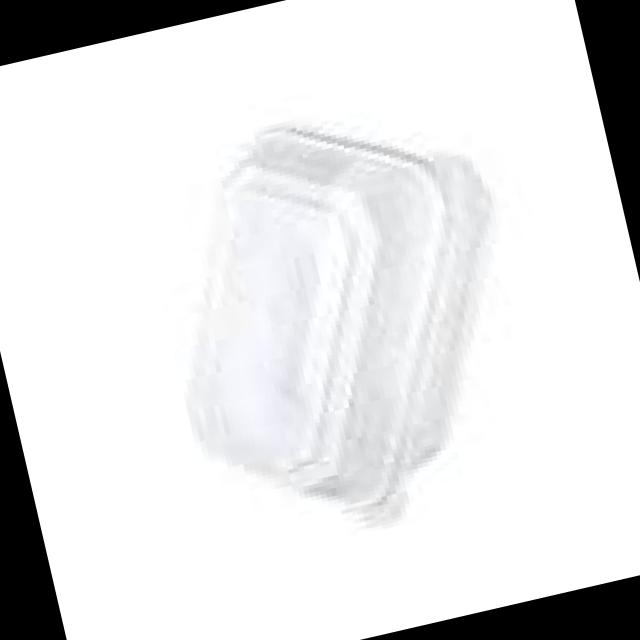Clamshell: (102, 70, 574, 585)
